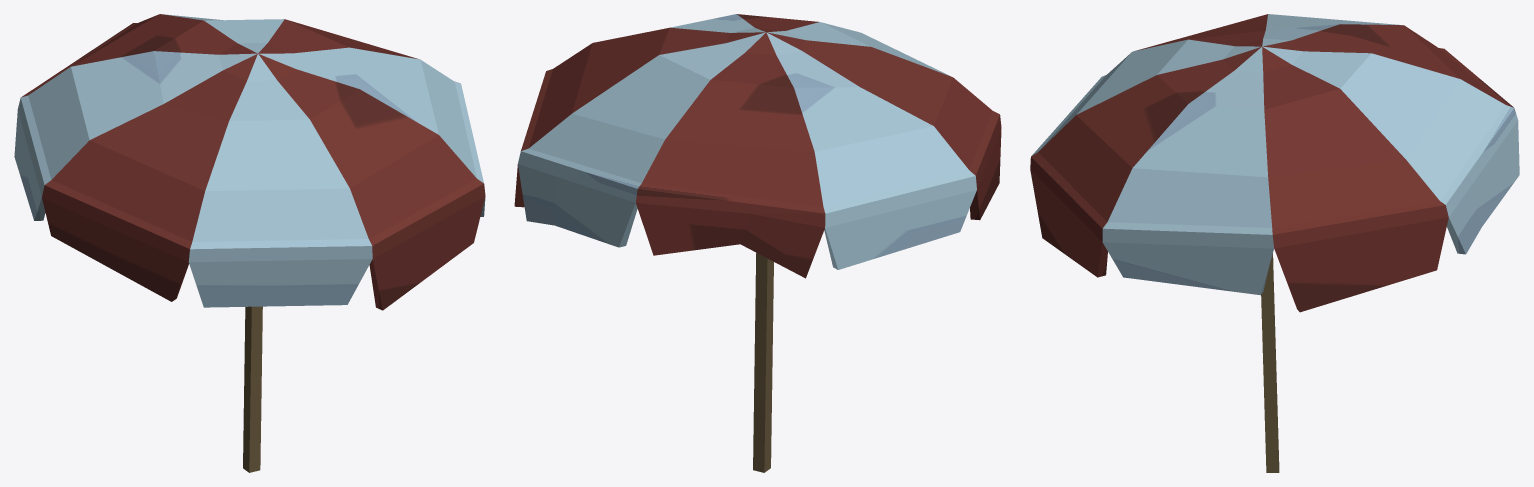
The model's file is SM_Prop_Umbrella_02.fbx.
3 views of the same model, side by side, from view 1: azimuth 30°, elevation 25°; view 2: azimuth 150°, elevation 25°; view 3: azimuth 270°, elevation 25° (orthographic). The views are drawn at different scales.
Parts seen in each view (by area): view 1: SM_Prop_Umbrella_02; view 2: SM_Prop_Umbrella_02; view 3: SM_Prop_Umbrella_02.
Boxes of the visible parts, box(x1,y1,x2,y2) form: SM_Prop_Umbrella_02: box(14, 14, 485, 472); SM_Prop_Umbrella_02: box(514, 14, 1001, 472); SM_Prop_Umbrella_02: box(1030, 14, 1519, 472).
Bounding box in the file's own units: 240 × 229 × 239.
